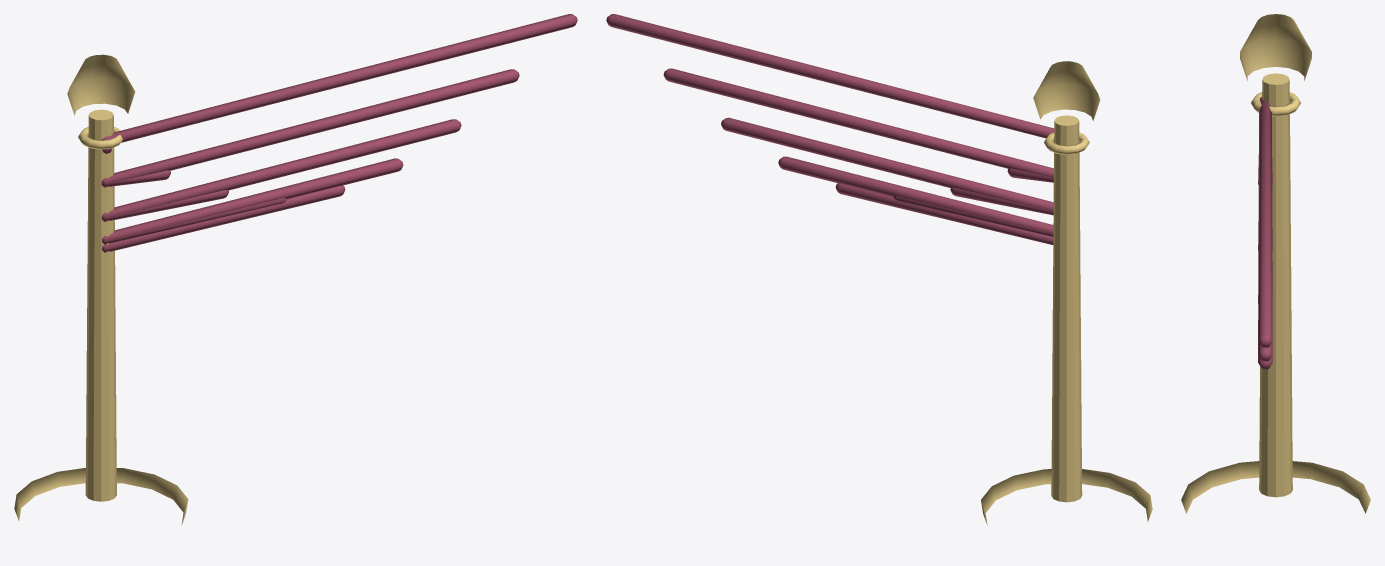
Rendered from casino-floor-and-back-rooms-rope-stanchion-4fb93cd2.glb.
3 renders of one model, left to right at view 1: azimuth 30°, elevation 25°; view 2: azimuth 150°, elevation 25°; view 3: azimuth 270°, elevation 25°, orthographic. The views are drawn at different scales.
Visible parts, largest first — view 1: rope-stanchion; view 2: rope-stanchion; view 3: rope-stanchion.
Boxes of the visible parts, x1,y1,x2,y2 form: rope-stanchion: (14,14,577,524); rope-stanchion: (606,14,1152,525); rope-stanchion: (1181,14,1370,513).
Bounding box in the file's own units: 1.29 × 1.03 × 0.36.
